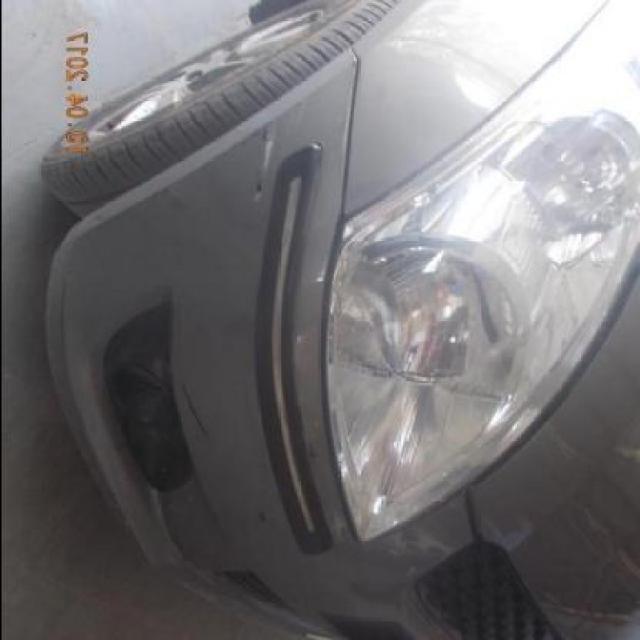damage: (247, 119, 274, 206), (176, 375, 209, 439)
